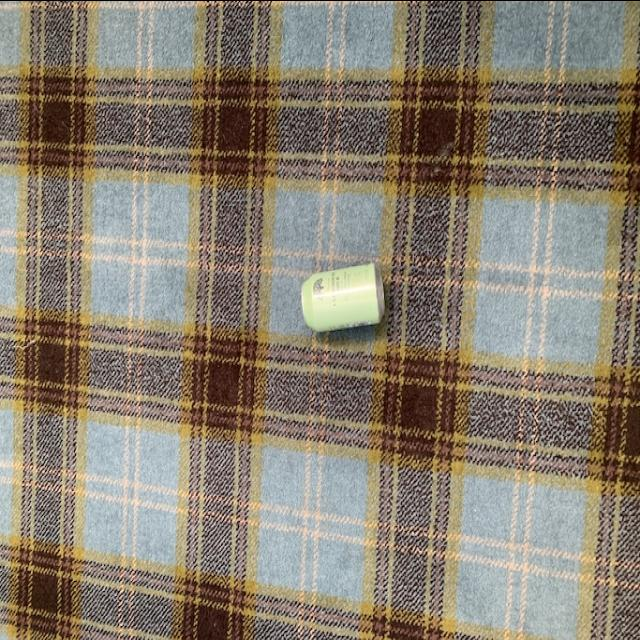litter: (298, 260, 392, 340)
